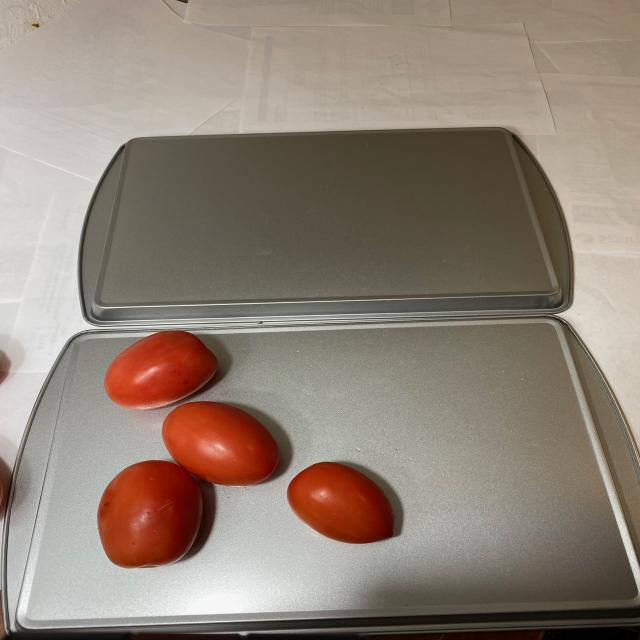tomato: (93, 332, 411, 570)
